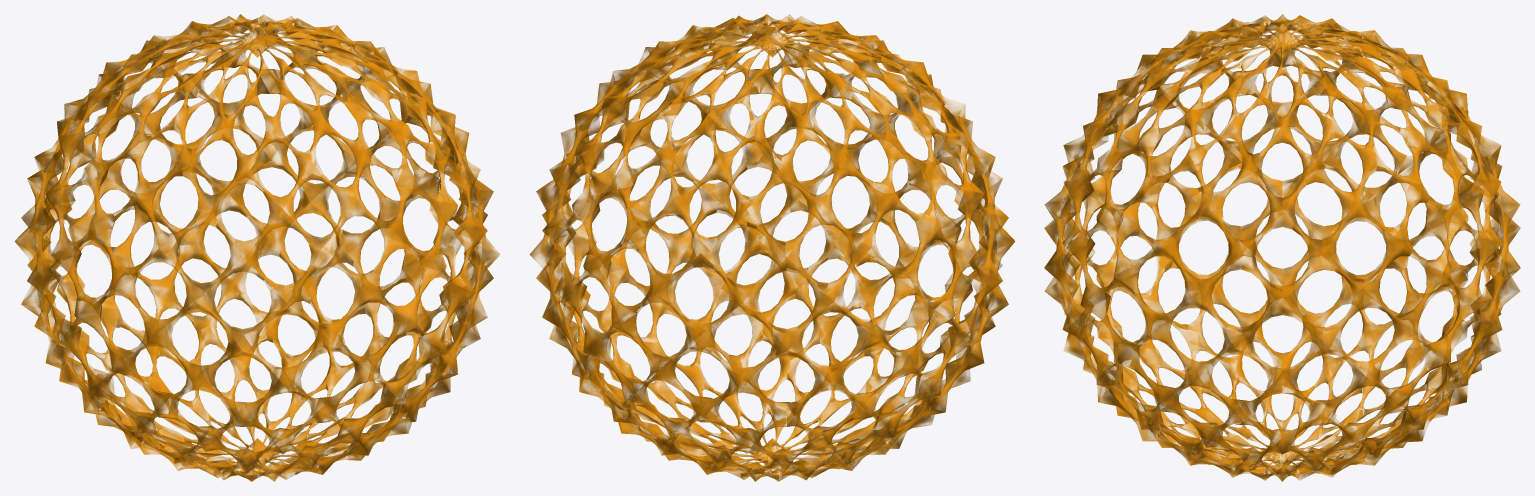
File: CoreOut.glb
The picture shows the model from 3 angles, left to right: view 1: azimuth 30°, elevation 25°; view 2: azimuth 150°, elevation 25°; view 3: azimuth 270°, elevation 25°; orthographic projection.
Visible parts, largest first — view 1: Sphere; view 2: Sphere; view 3: Sphere.
Boxes of the visible parts, bbox=[...] form: Sphere: bbox=[14, 14, 499, 481]; Sphere: bbox=[529, 14, 1015, 481]; Sphere: bbox=[1044, 14, 1520, 481].
Bounding box in the file's own units: 1.81 × 1.88 × 1.81.
1 material, 1 textured.
